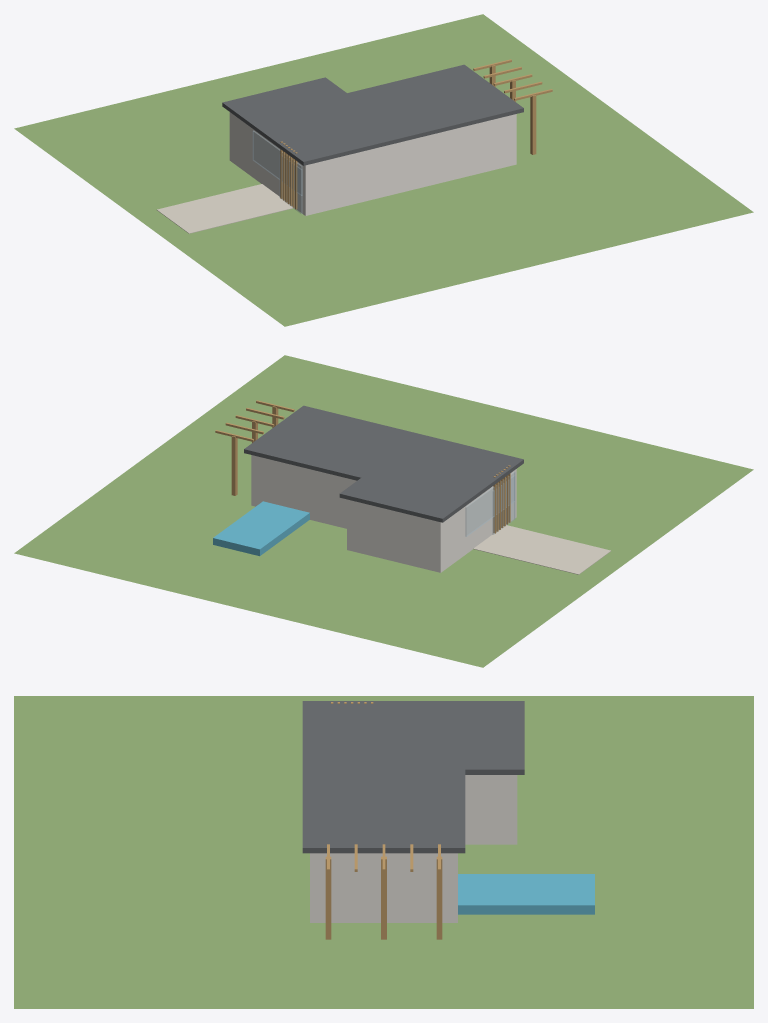
Rendered from bungalow.glb.
3 views of the same model, one above another, from view 1: azimuth 30°, elevation 25°; view 2: azimuth 150°, elevation 25°; view 3: azimuth 270°, elevation 25° (orthographic). The views are drawn at different scales.
Parts seen in each view (by area): view 1: BG_Ground, BG_Roof1, BG_Vol1, BG_Gravel, BG_Roof2, BG_Glass, BG_Vol2, BG_SlideDoor; view 2: BG_Ground, BG_Roof1, BG_Vol1, BG_Vol2, BG_Gravel, BG_Pool, BG_Roof2, BG_Glass, BG_SlideDoor; view 3: BG_Ground, BG_Roof1, BG_Vol1, BG_Pool, BG_Roof2, BG_Vol2, BG_PergPost_-1.5, BG_PergPost_1.5.
Boxes of the visible parts, x1,y1,x2,y2 form: BG_Ground: (14, 14, 753, 326); BG_Roof1: (244, 64, 523, 165); BG_Vol1: (251, 114, 516, 215); BG_Gravel: (157, 184, 293, 233); BG_Roof2: (222, 77, 346, 125); BG_Glass: (252, 130, 302, 195); BG_Vol2: (229, 112, 251, 175); BG_SlideDoor: (279, 155, 302, 213); BG_Ground: (14, 355, 753, 667); BG_Roof1: (244, 405, 523, 502); BG_Vol1: (251, 455, 516, 556); BG_Vol2: (347, 499, 462, 572); BG_Gravel: (473, 525, 610, 574); BG_Pool: (213, 501, 309, 556); BG_Roof2: (339, 478, 469, 522); BG_Glass: (465, 471, 515, 536); BG_SlideDoor: (492, 475, 515, 534); BG_Ground: (14, 696, 753, 1008); BG_Roof1: (302, 701, 465, 853); BG_Vol1: (310, 853, 457, 922); BG_Pool: (458, 874, 594, 914); BG_Roof2: (465, 701, 524, 774); BG_Vol2: (465, 775, 517, 844); BG_PergPost_-1.5: (325, 856, 331, 939); BG_PergPost_1.5: (436, 856, 442, 939).
Size of the model in its own units: 20 by 2.44 by 20.
